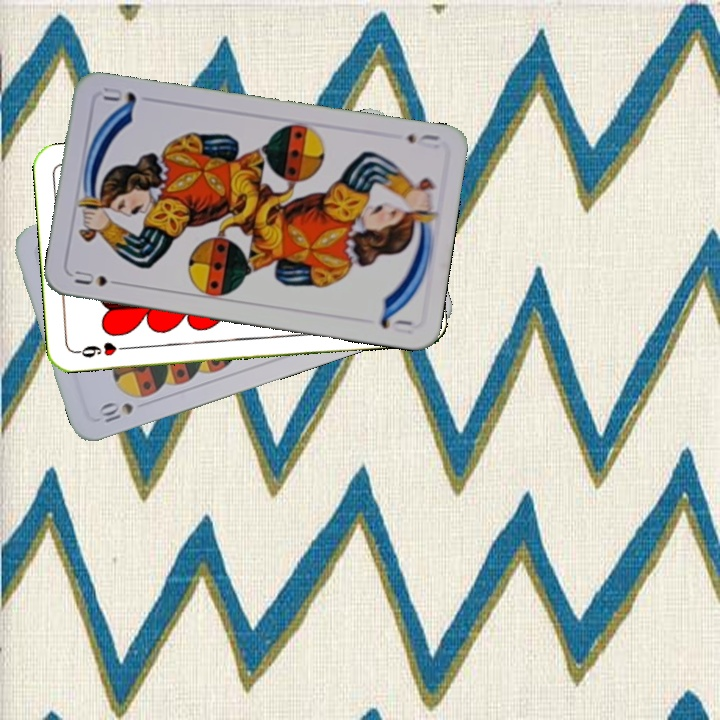H9: (72, 338, 131, 360)
S10: (94, 398, 137, 425)
SU: (70, 266, 127, 289), (402, 130, 443, 152)
